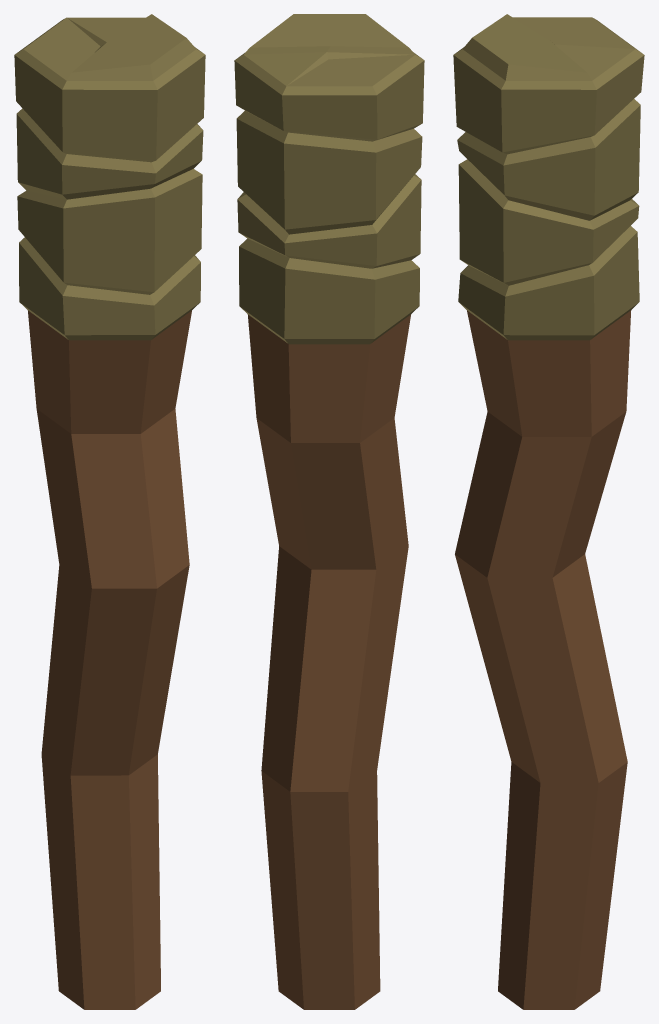
Rendered from Torch.fbx.
The picture shows the model from 3 angles, left to right: view 1: azimuth 30°, elevation 25°; view 2: azimuth 150°, elevation 25°; view 3: azimuth 270°, elevation 25°; orthographic projection.
Parts seen in each view (by area): view 1: Primitive_Torch; view 2: Primitive_Torch; view 3: Primitive_Torch.
Part boxes in pixels (left/top/right/bottom): Primitive_Torch: left=14, top=14, right=205, bottom=1009; Primitive_Torch: left=234, top=14, right=424, bottom=1009; Primitive_Torch: left=453, top=14, right=644, bottom=1009.
Size of the model in its own units: 0.3757 by 2.39 by 0.434.
